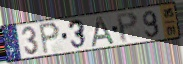3: (68, 18, 90, 51), (21, 25, 41, 57)
9: (142, 9, 161, 40)
A: (90, 15, 117, 49)
P: (38, 21, 62, 56), (115, 11, 139, 44)
